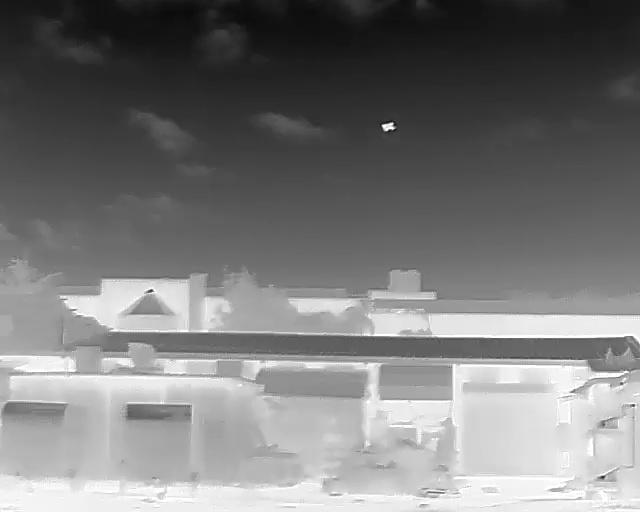fpv-drone: (381, 121, 397, 133)
